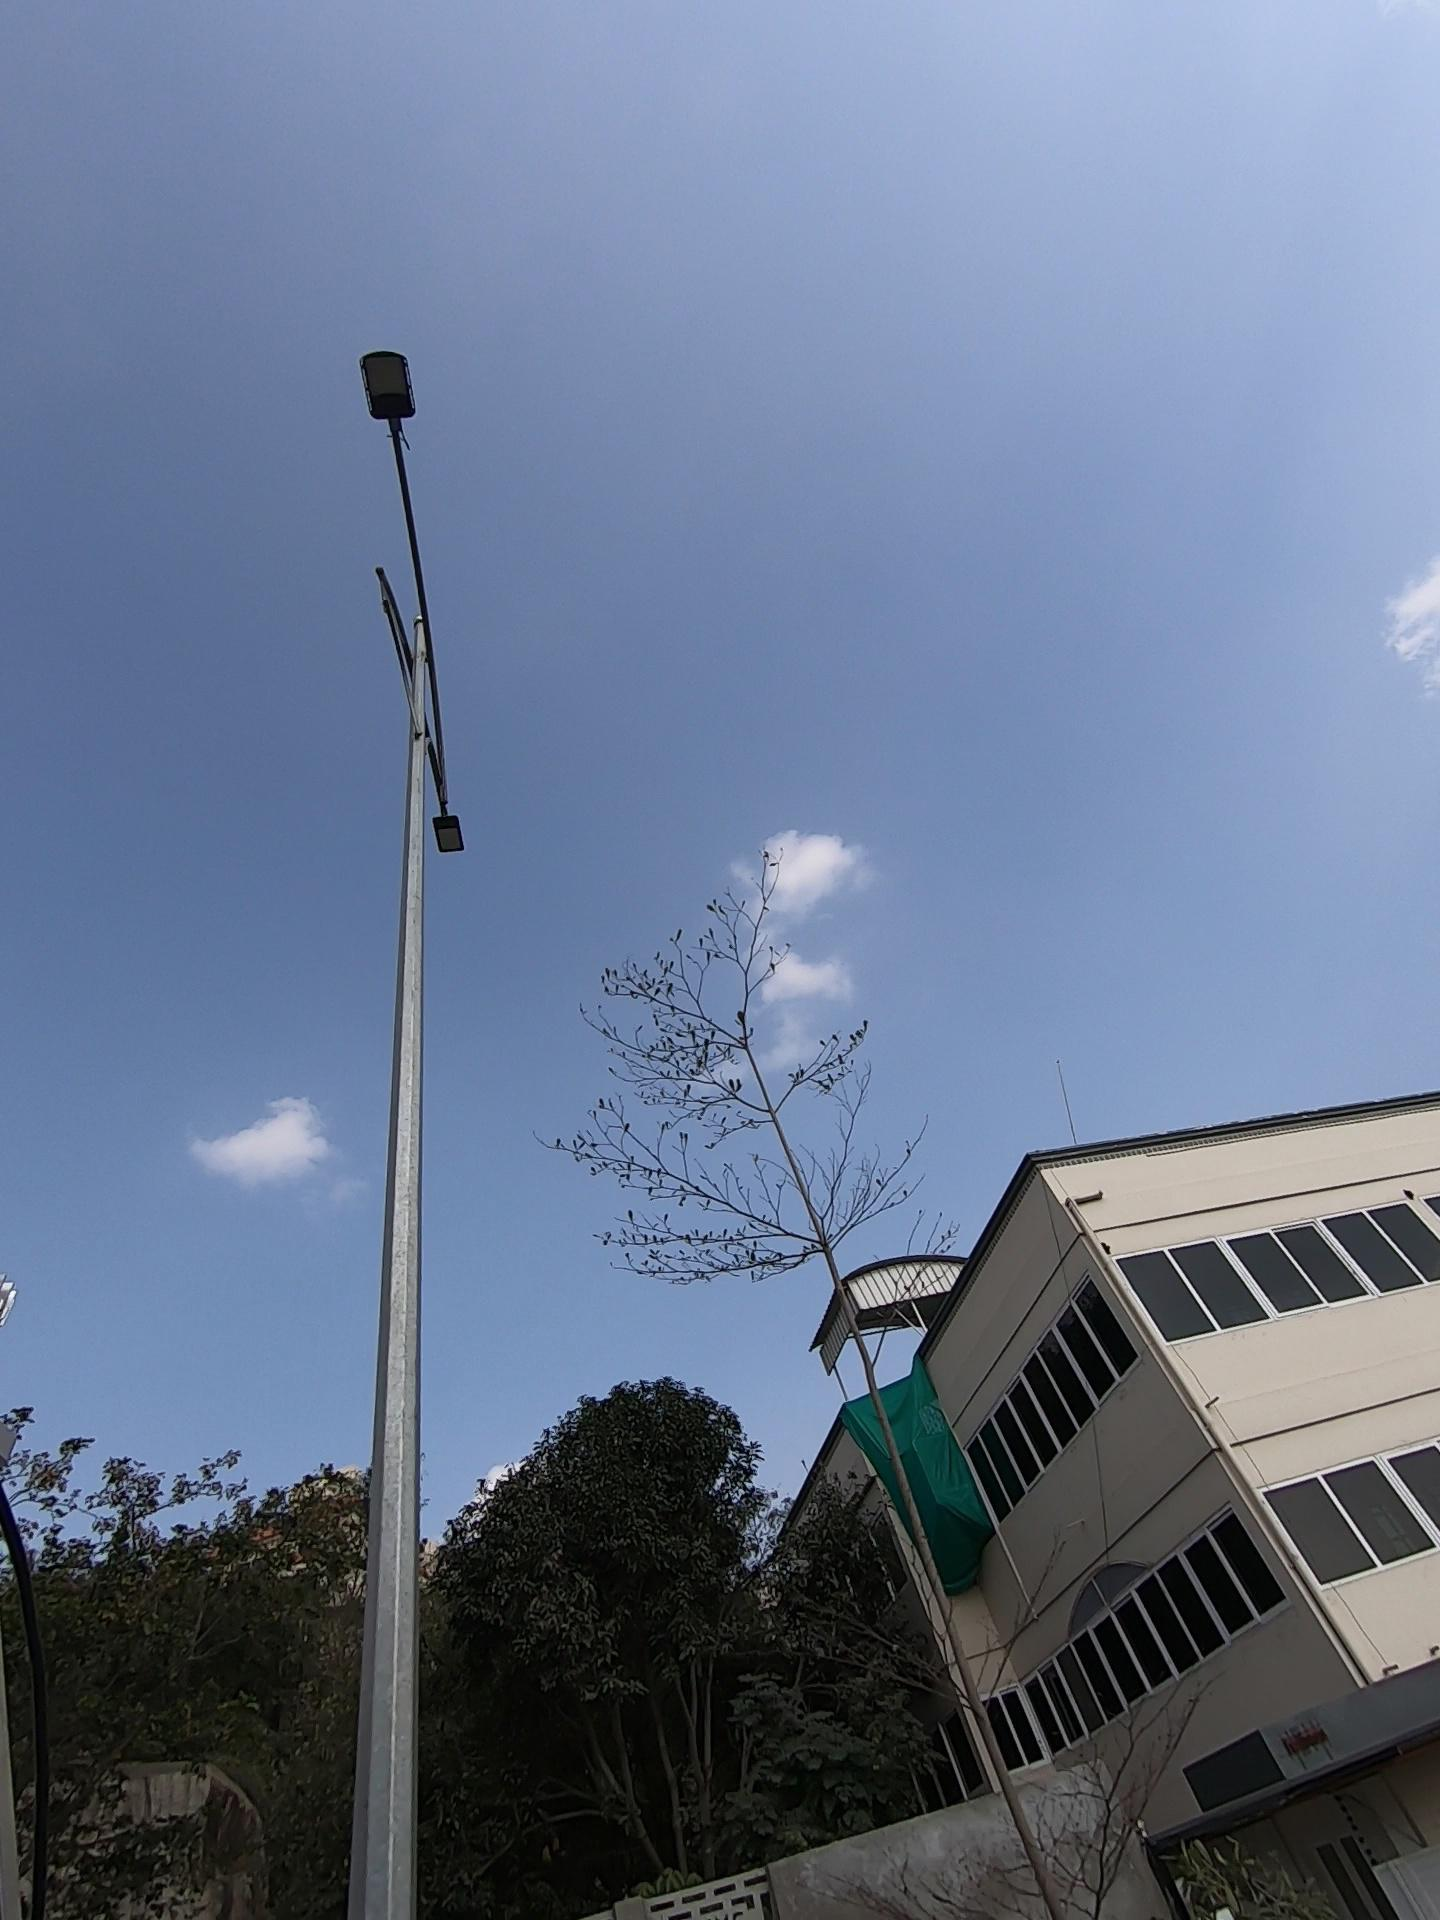off: (315, 231, 564, 919)
